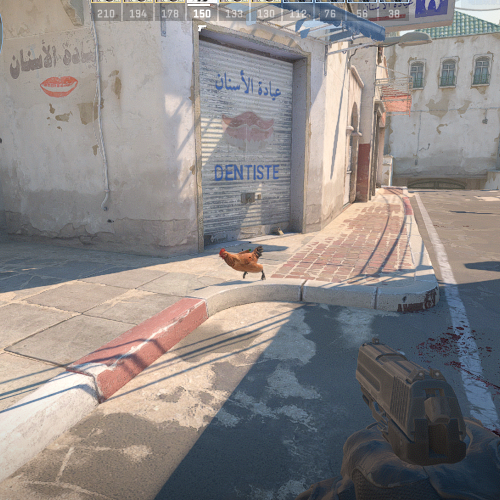chicken: (218, 243, 266, 281)
